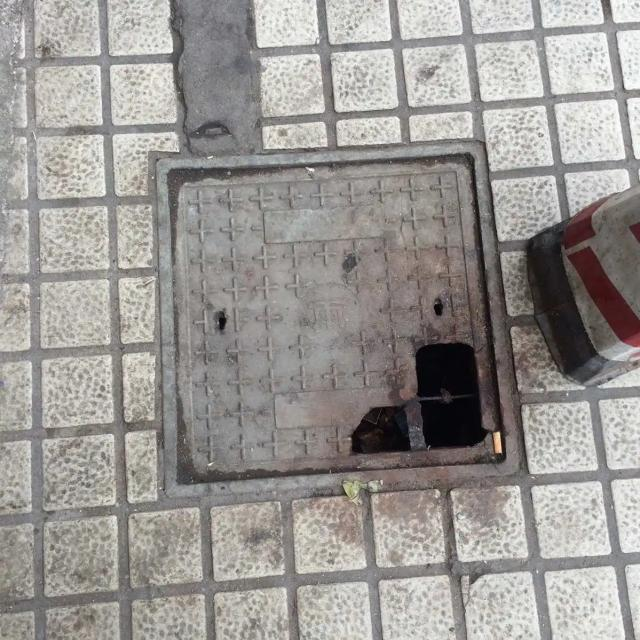manhole: (158, 144, 518, 489)
